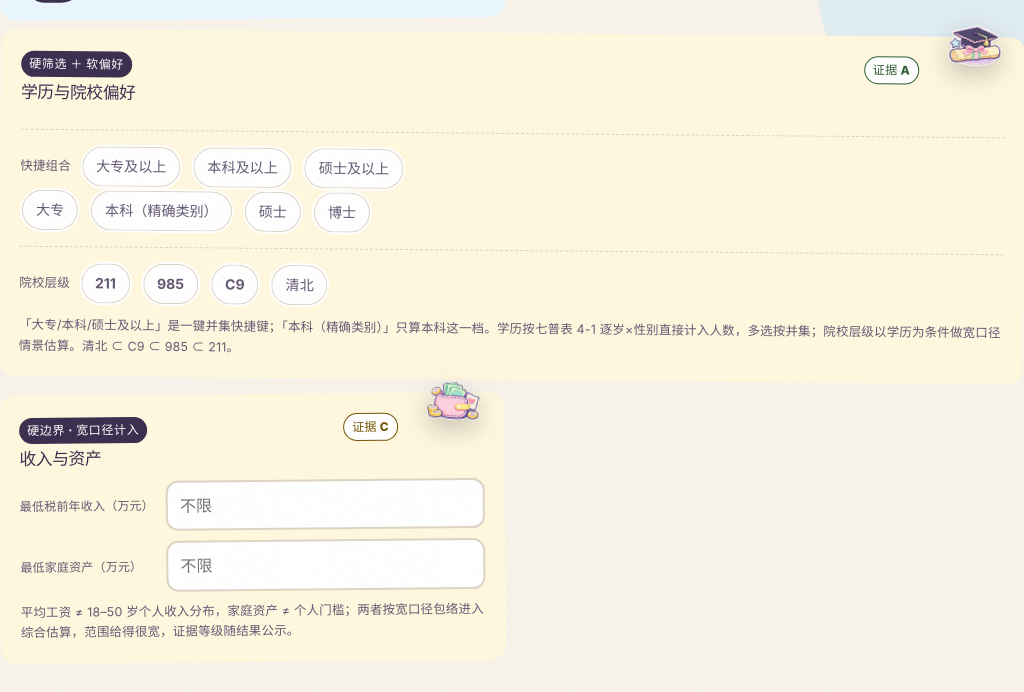
Scenario: core criteria validation › associates an out-of-range income error and preserves the last valid model value
(page scrolled)
Step 1. Type "10001" into the number field labelled "最低税前年收入（万元）" → point(325, 504), box [166,478,485,531]
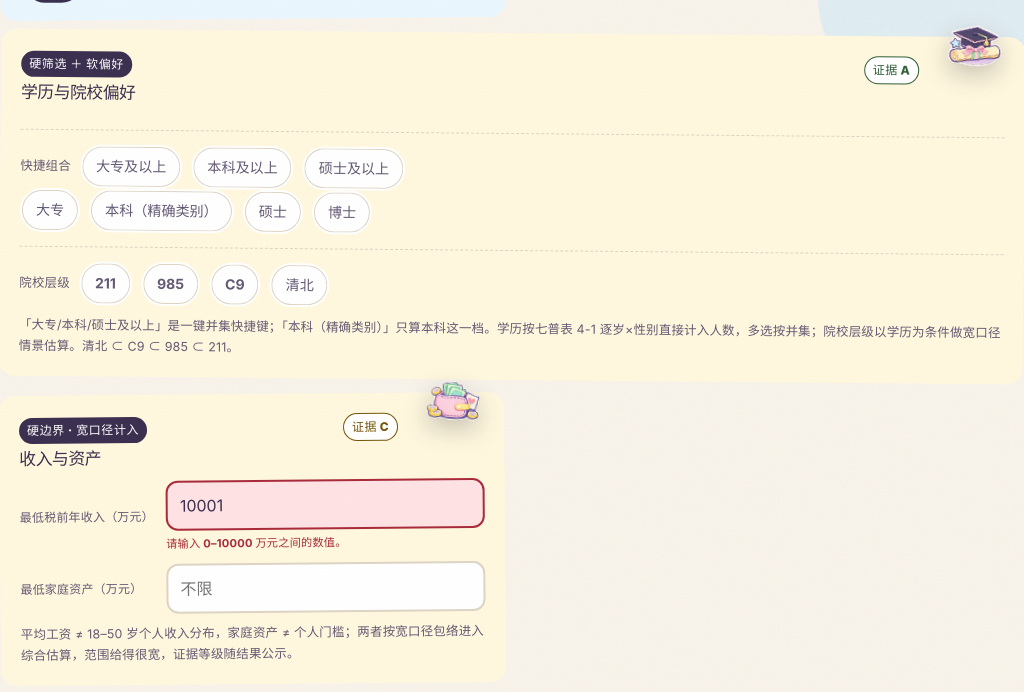
Expected: the message shows "0–10000", [166,535,347,551]
